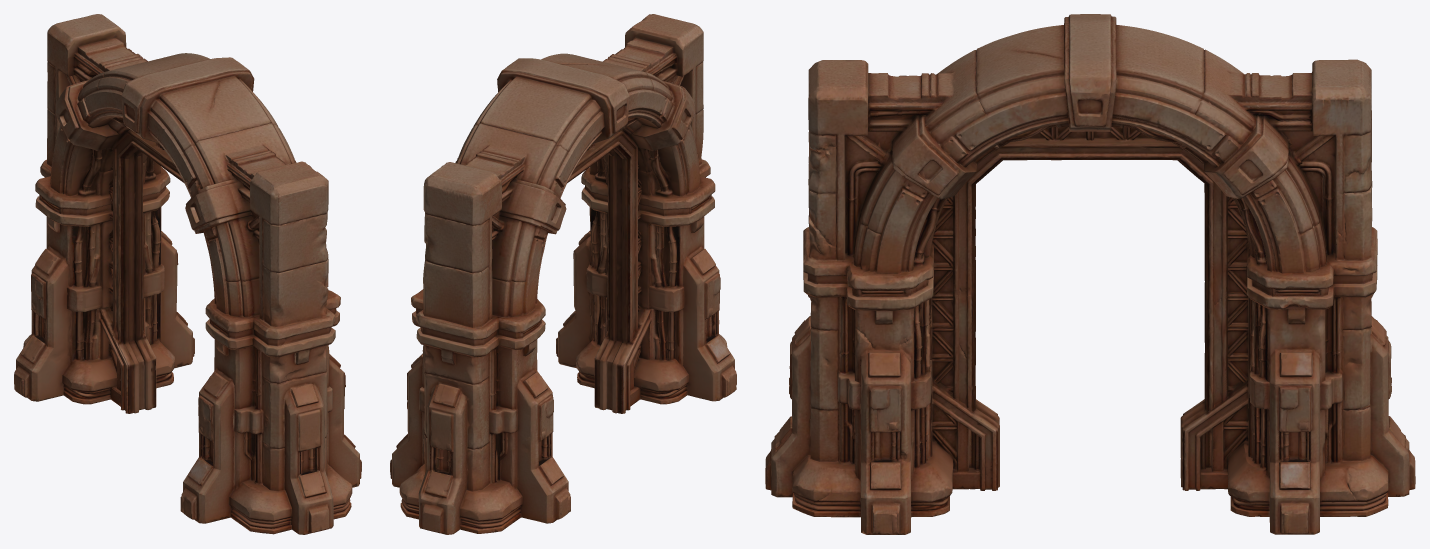
File: mars_arch.glb
3 renders of one model, left to right at view 1: azimuth 30°, elevation 25°; view 2: azimuth 150°, elevation 25°; view 3: azimuth 270°, elevation 25°, orthographic. The views are drawn at different scales.
Visible parts, largest first — view 1: tripo_node_ee8d0d70-c48d-4ff1-a3f1-b4615b005ead; view 2: tripo_node_ee8d0d70-c48d-4ff1-a3f1-b4615b005ead; view 3: tripo_node_ee8d0d70-c48d-4ff1-a3f1-b4615b005ead.
Part boxes in pixels (x1,y1,x2,y2): tripo_node_ee8d0d70-c48d-4ff1-a3f1-b4615b005ead: (14,14,361,534); tripo_node_ee8d0d70-c48d-4ff1-a3f1-b4615b005ead: (390,14,736,534); tripo_node_ee8d0d70-c48d-4ff1-a3f1-b4615b005ead: (765,14,1415,534).
Size of the model in its own units: 0.3698 by 0.7435 by 0.9807.
1 material, 1 textured.
